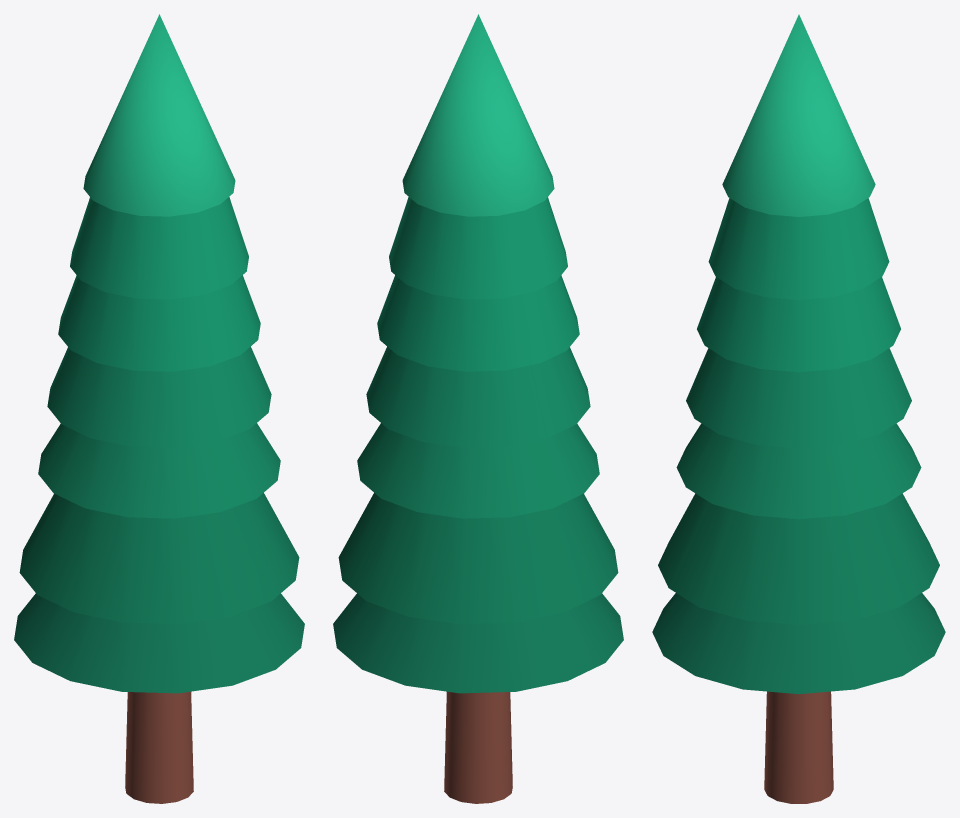
The model's file is Spruce_Cold_Turquoise_Thin_2.fbx.
3 views of the same model, side by side, from view 1: azimuth 30°, elevation 25°; view 2: azimuth 150°, elevation 25°; view 3: azimuth 270°, elevation 25° (orthographic).
Visible parts, largest first — view 1: Cylinder.161, Cylinder.160, Cylinder.162, Cylinder.163, Cylinder.165, Cylinder.164, Cylinder.158, Cylinder.159; view 2: Cylinder.161, Cylinder.160, Cylinder.162, Cylinder.163, Cylinder.165, Cylinder.164, Cylinder.158, Cylinder.159; view 3: Cylinder.161, Cylinder.160, Cylinder.162, Cylinder.163, Cylinder.165, Cylinder.164, Cylinder.158, Cylinder.159.
Boxes of the visible parts, box(x1,y1,x2,y2) form: Cylinder.161: box(19, 493, 299, 624); Cylinder.160: box(14, 593, 304, 693); Cylinder.162: box(83, 14, 235, 216); Cylinder.163: box(38, 423, 280, 518); Cylinder.165: box(47, 346, 271, 447); Cylinder.164: box(58, 275, 260, 371); Cylinder.158: box(70, 197, 248, 299); Cylinder.159: box(125, 691, 193, 803); Cylinder.161: box(338, 493, 618, 624); Cylinder.160: box(333, 593, 623, 693); Cylinder.162: box(402, 14, 554, 216); Cylinder.163: box(357, 423, 599, 518); Cylinder.165: box(366, 346, 590, 447); Cylinder.164: box(377, 275, 579, 371); Cylinder.158: box(389, 197, 567, 299); Cylinder.159: box(444, 691, 512, 803); Cylinder.161: box(658, 493, 939, 624); Cylinder.160: box(652, 593, 945, 694); Cylinder.162: box(722, 14, 875, 216); Cylinder.163: box(676, 423, 921, 519); Cylinder.165: box(686, 348, 911, 448); Cylinder.164: box(697, 277, 900, 372); Cylinder.158: box(708, 198, 889, 299); Cylinder.159: box(764, 691, 833, 803).
Bounding box in the file's own units: 195 × 570 × 195.
